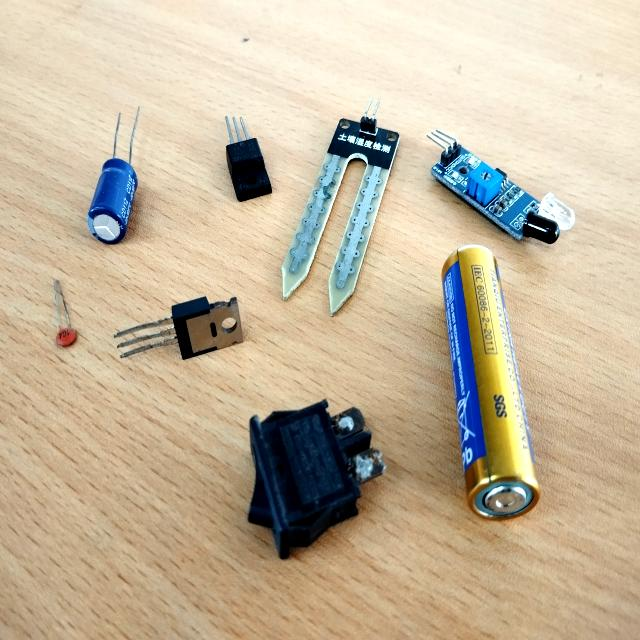capacitor: (88, 158, 138, 245), (56, 327, 77, 348)
